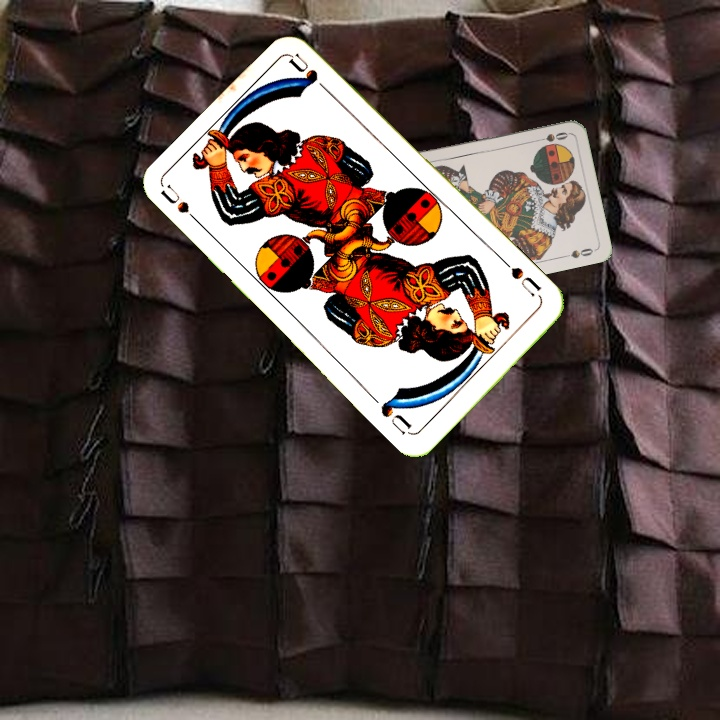SO: (530, 128, 571, 144)
SU: (158, 181, 207, 231), (498, 256, 545, 302)
